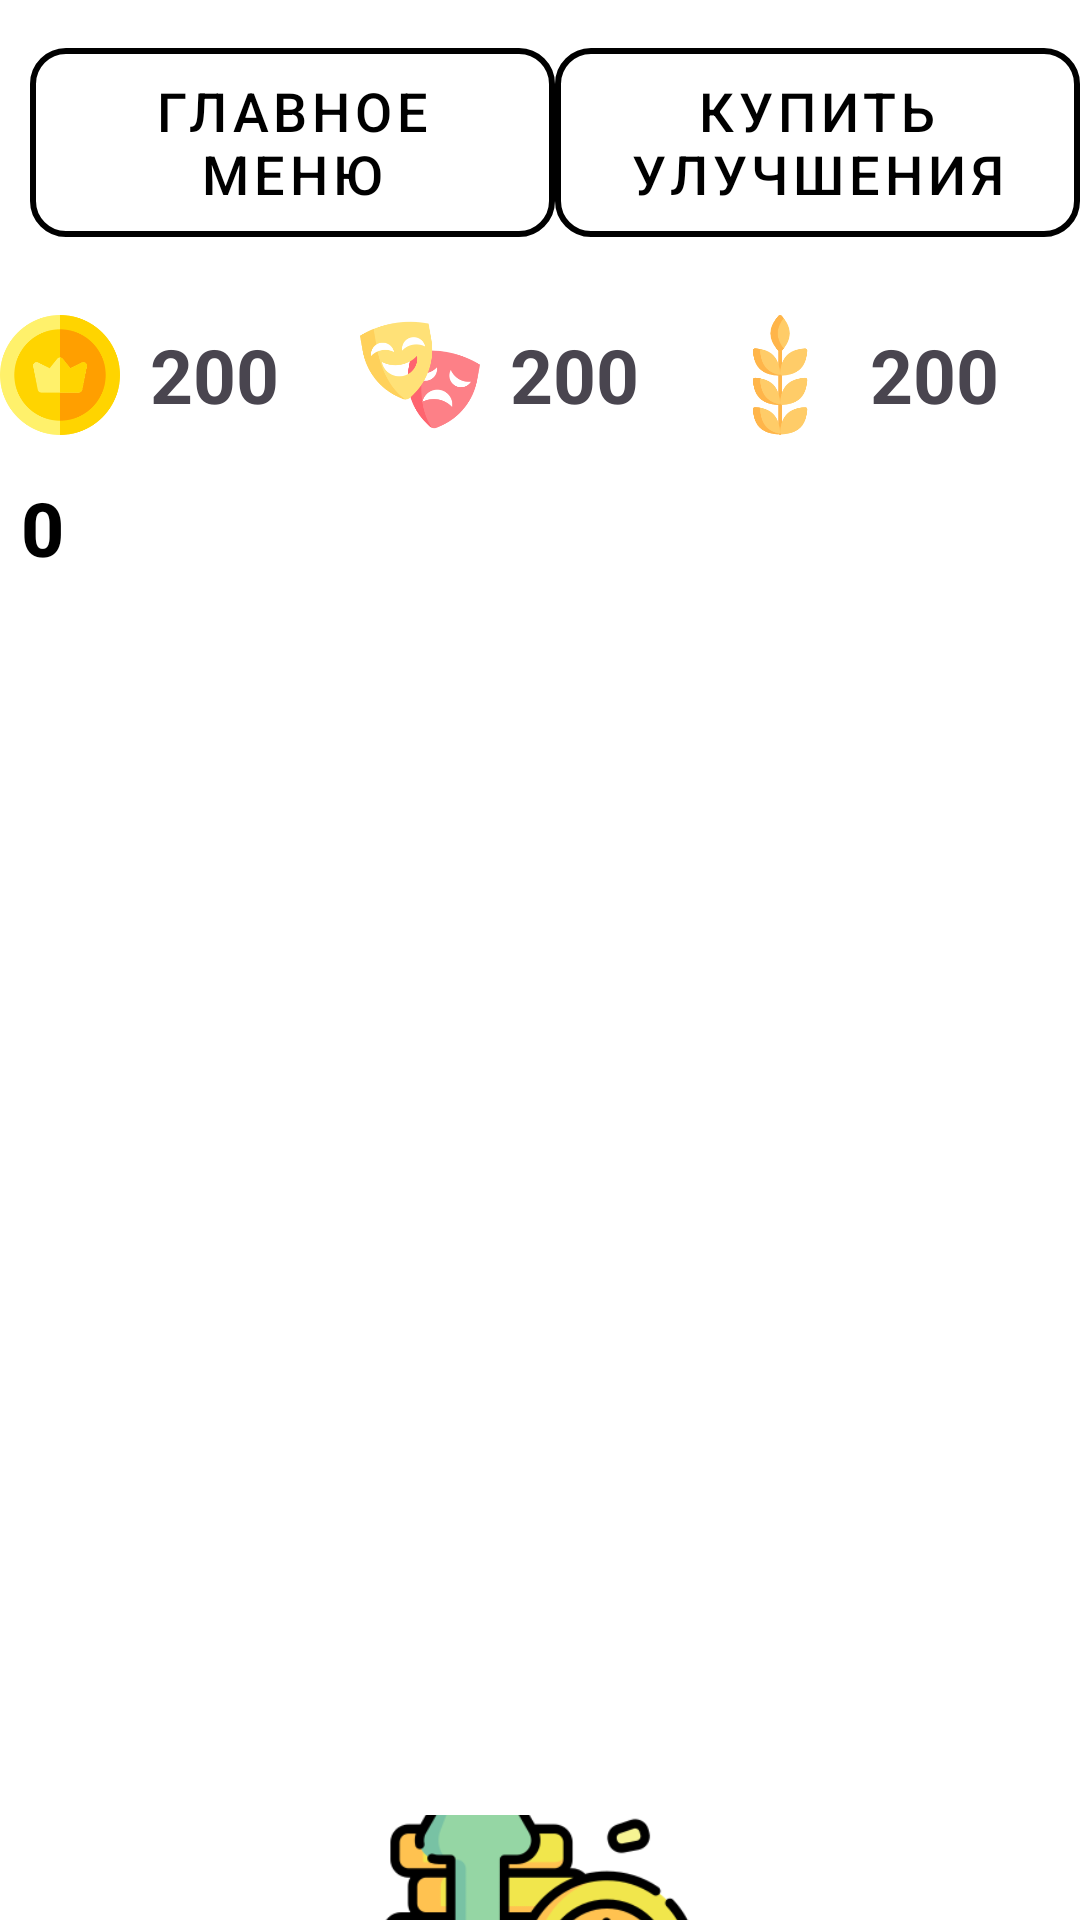

Icons on this 1080x1920 Android screen, each with its box as {"x1": x1, "y1": y1, "x2": x2, "y2": y2}:
coin: {"x1": 0, "y1": 315, "x2": 120, "y2": 435}
entertainment: {"x1": 360, "y1": 322, "x2": 480, "y2": 428}
food: {"x1": 753, "y1": 315, "x2": 808, "y2": 435}
